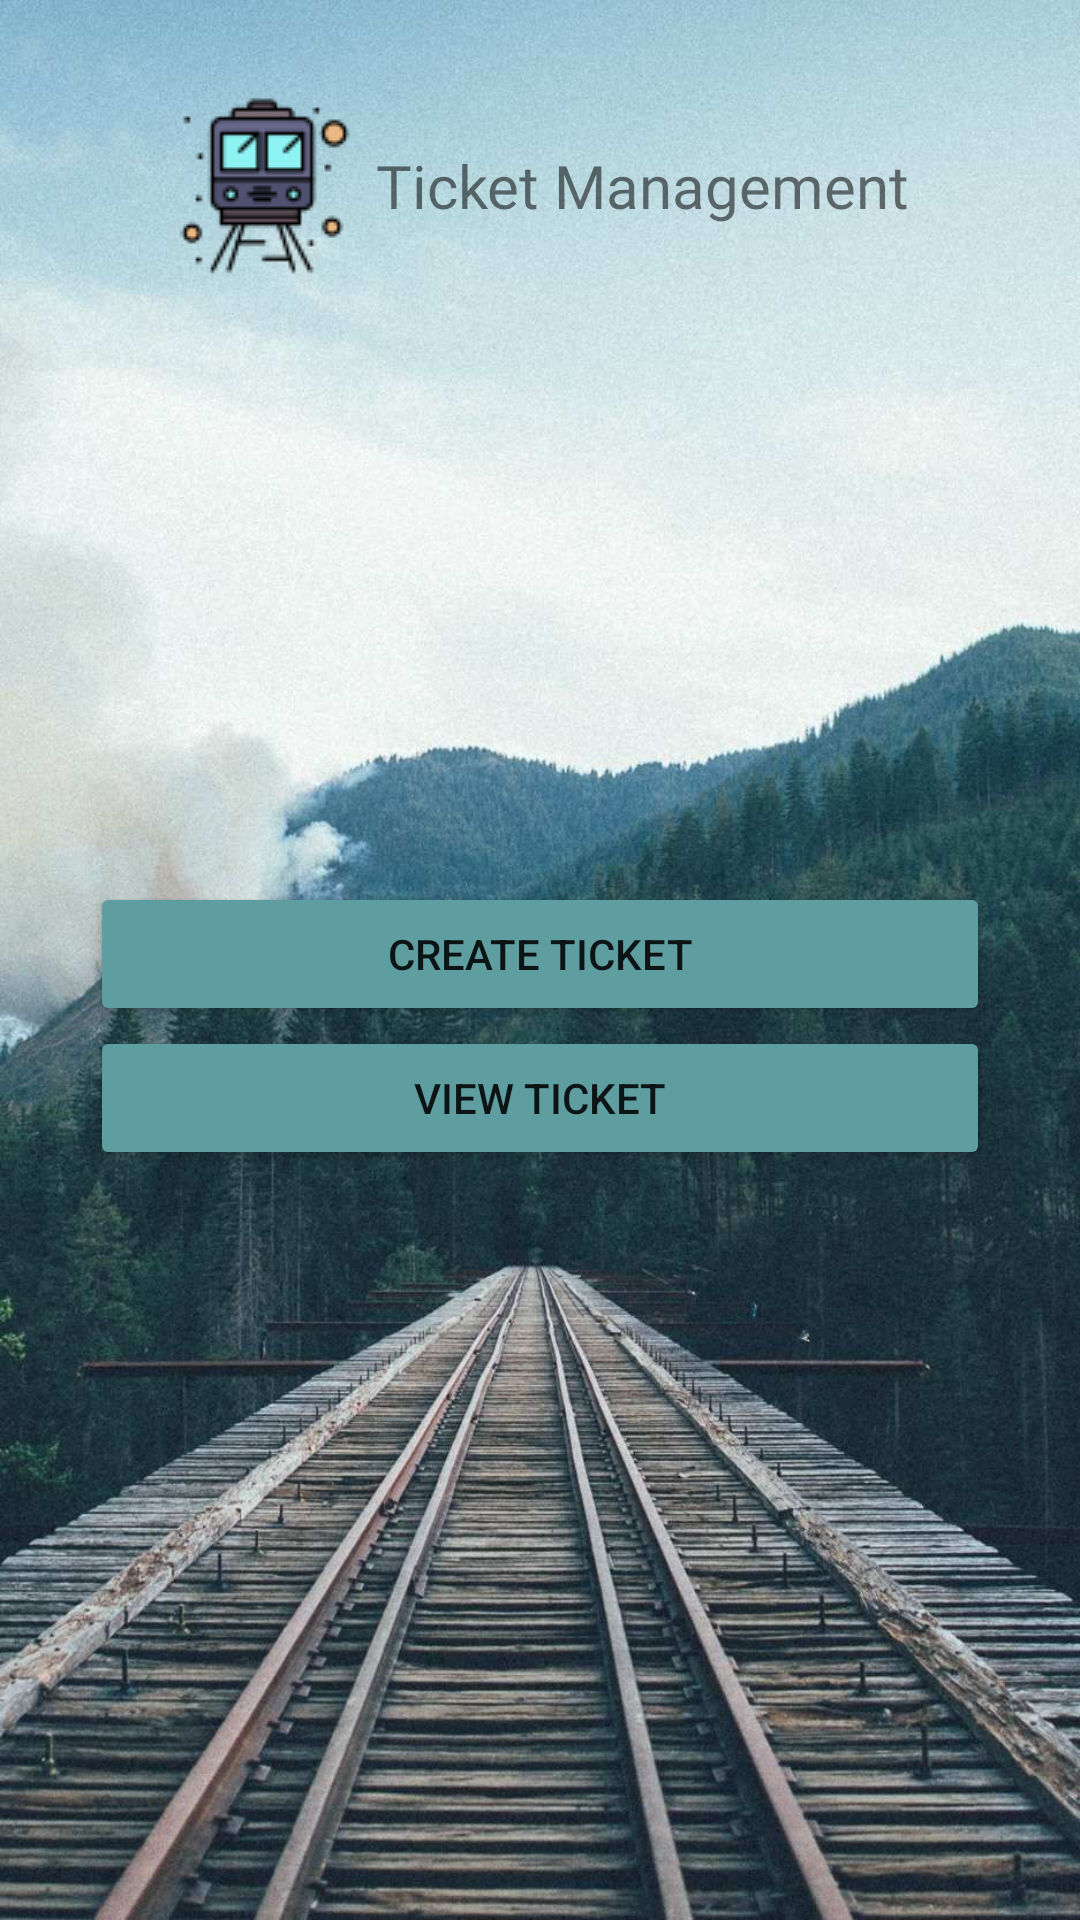

Screen size 1080px×1920px. Icon name, then its center in pixels as (x,y):
toast train: (265,182)
